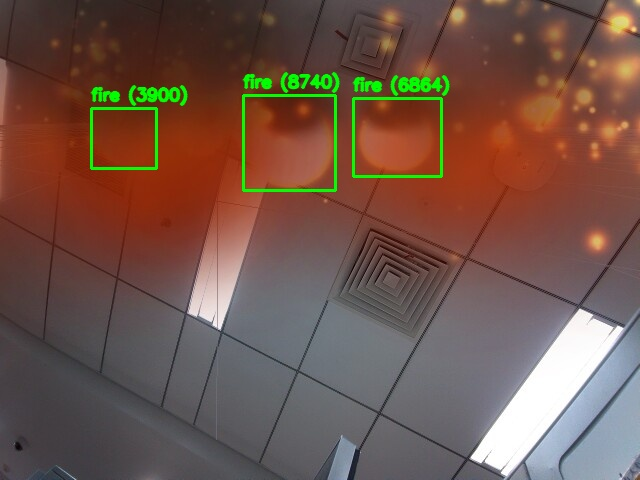fire: (243, 95, 335, 190), (353, 98, 441, 176), (91, 108, 156, 168)
